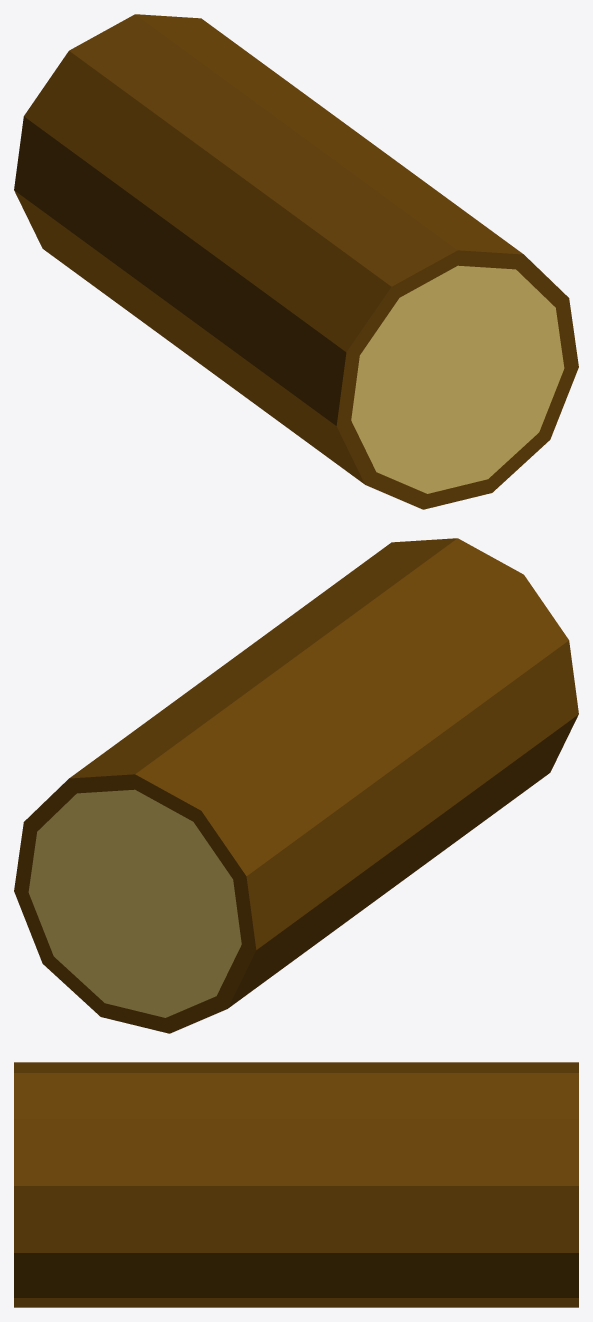
The model's file is wood01.fbx.
3 views of the same model, one above another, from view 1: azimuth 30°, elevation 25°; view 2: azimuth 150°, elevation 25°; view 3: azimuth 270°, elevation 25° (orthographic). The views are drawn at different scales.
Parts seen in each view (by area): view 1: Cylinder.006; view 2: Cylinder.006; view 3: Cylinder.006.
Part boxes in pixels (x1,y1,x2,y2): Cylinder.006: (14,14,578,509); Cylinder.006: (14,538,578,1033); Cylinder.006: (14,1062,578,1307).
Size of the model in its own units: 0.3578 by 0.3541 by 0.8249.
